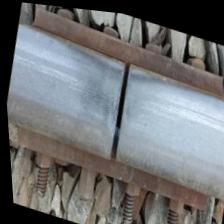person: (46, 31, 190, 181)
